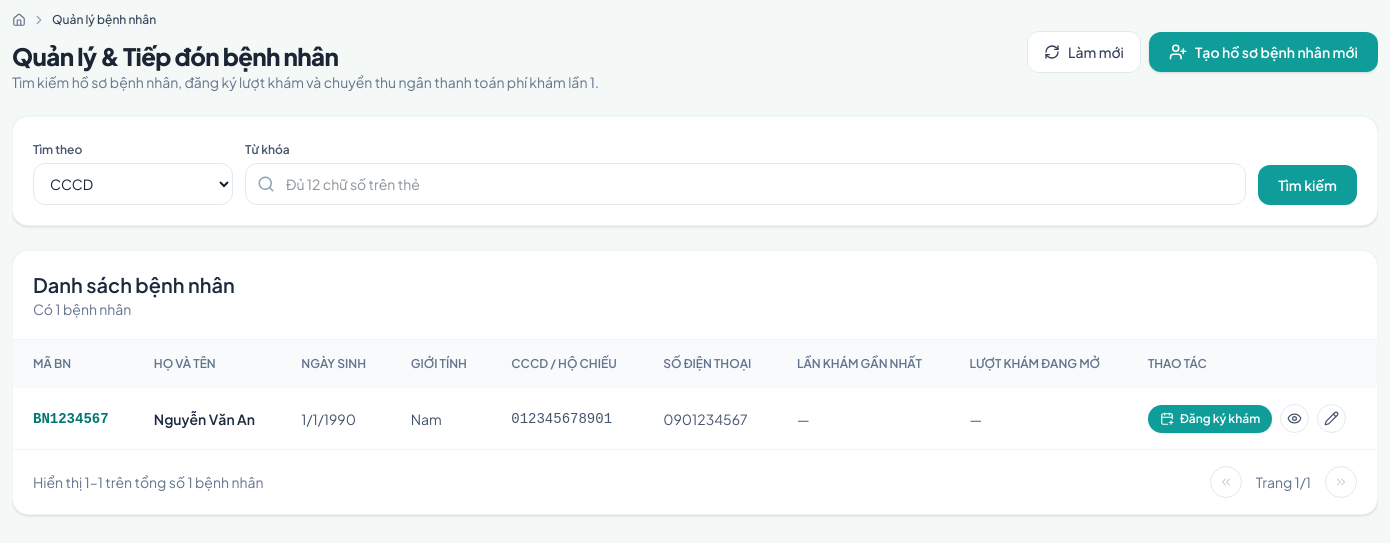
Scenario: ReceptionistPatientsPage (UC-35) › clears the previous results when the new keyword is invalid
Check: the button "Nguyễn Văn An" is shown, box [154,408,255,428]
Select "Số điện thoại" in the dropdown labelled "Tìm theo" at (133, 184), box [33,163,233,205]
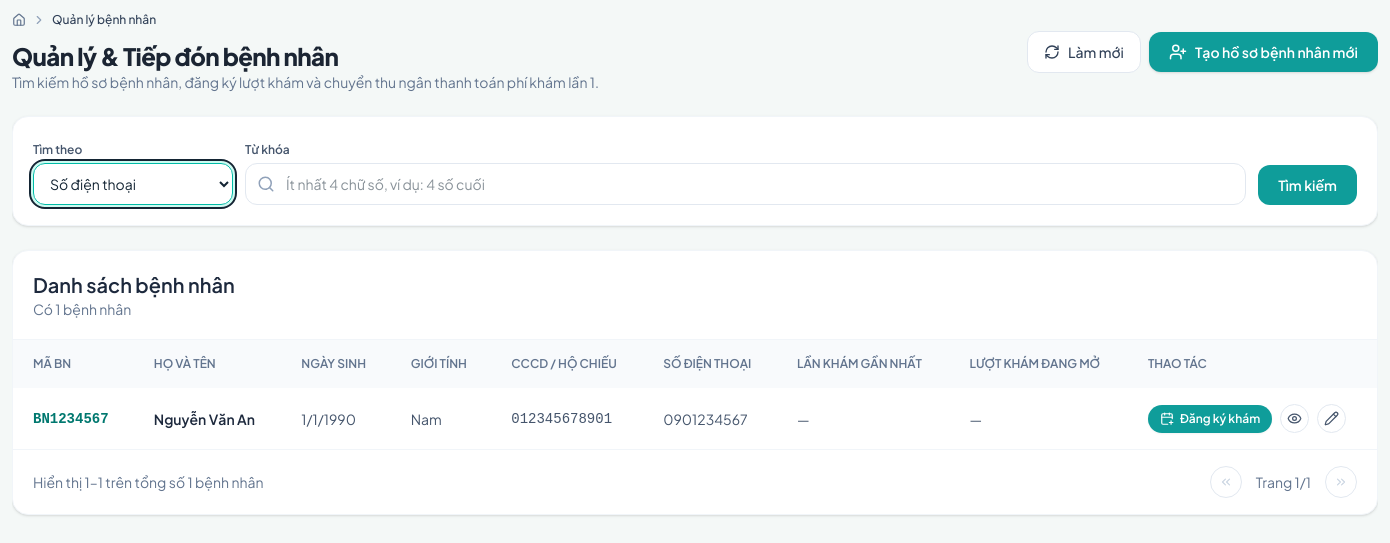
Type "09" into the field labelled "Từ khóa" at (746, 184), box [245,163,1246,205]
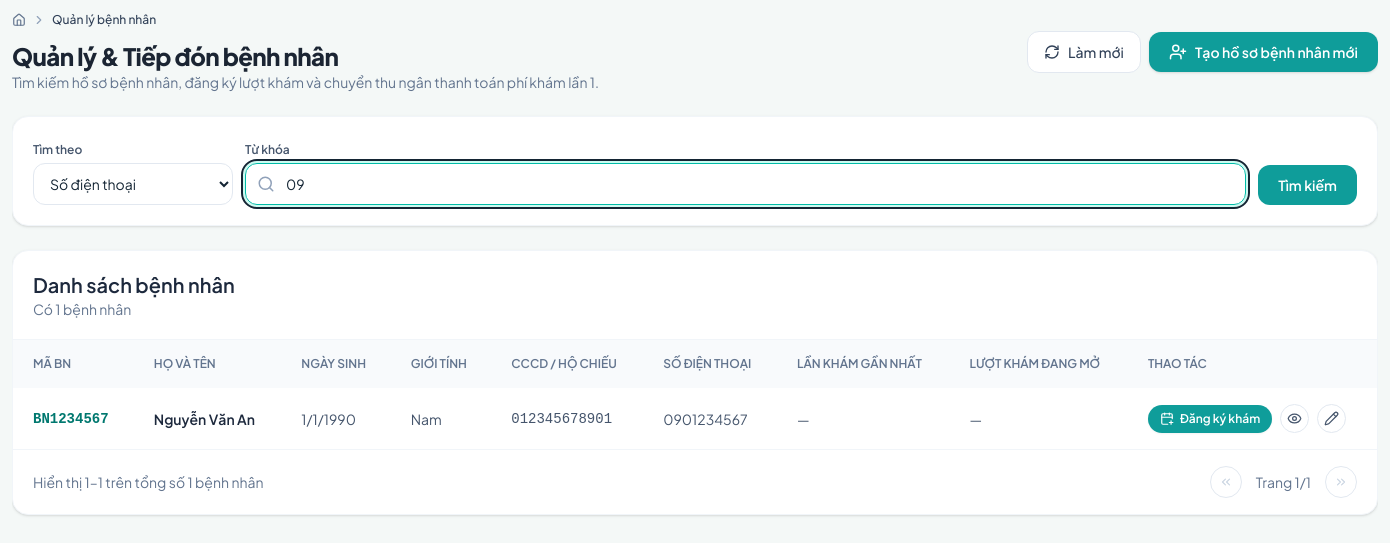
Click the button "Tìm kiếm" at (1308, 185), box [1258,165,1357,205]
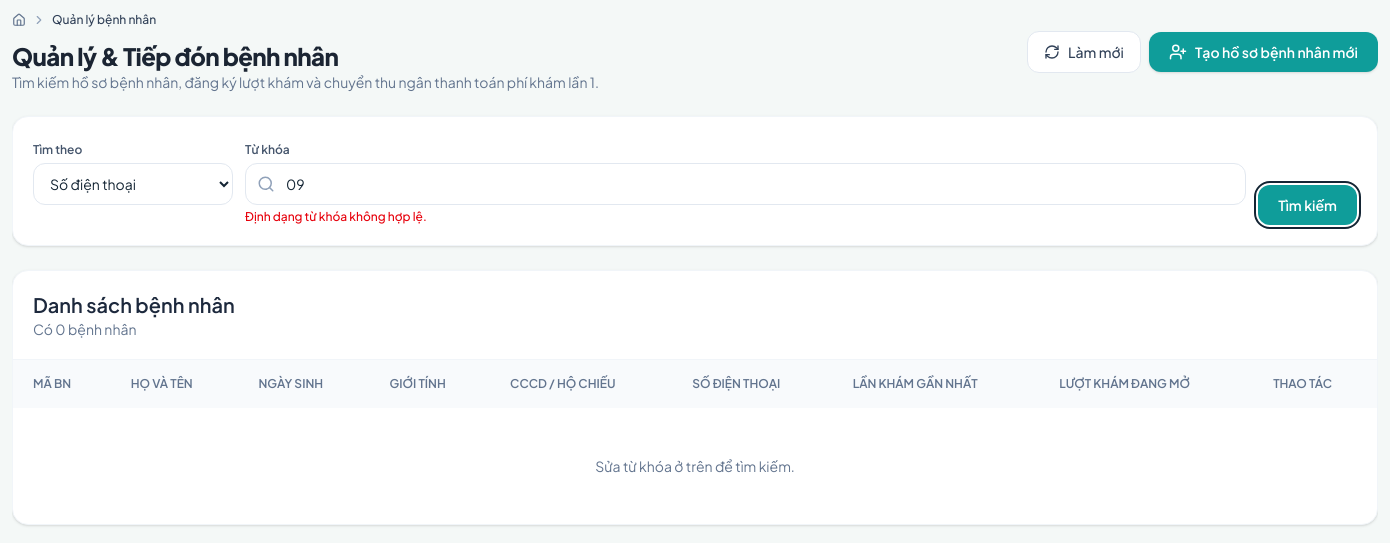
Check: the message reads "Định dạng từ khóa không hợp lệ.", box [245,209,427,224]
Check: the button "Nguyễn Văn An" is gone
Check: the text "Sửa từ khóa ở trên để tìm kiếm." is shown, box [13,408,1377,524]
